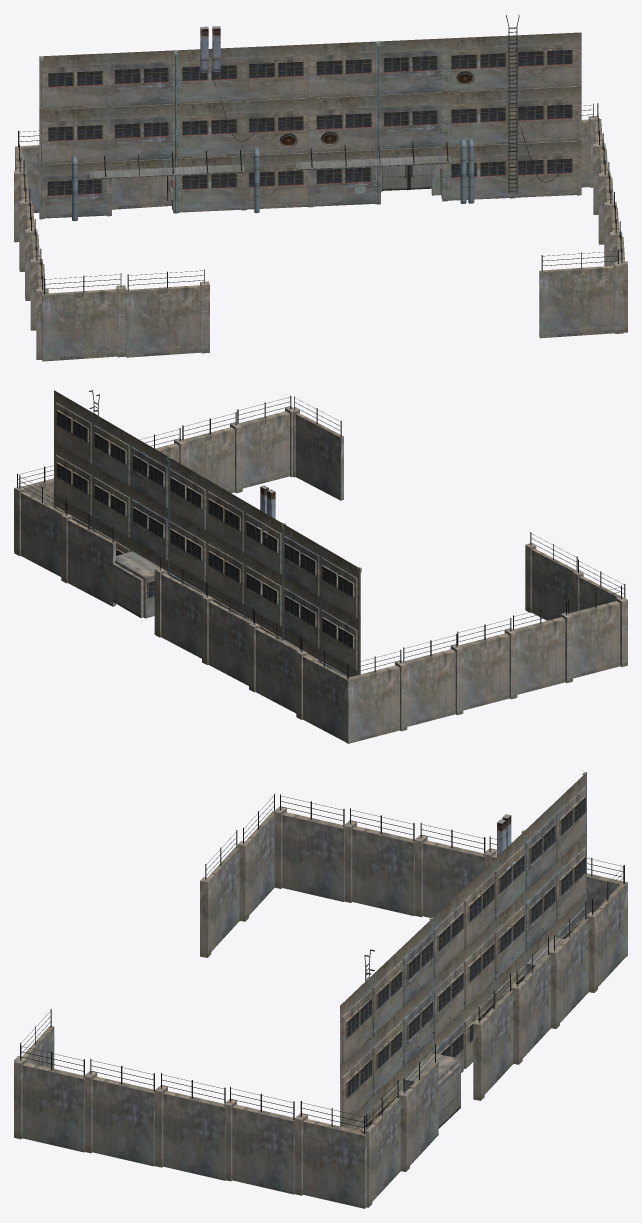
File: walls.fbx
The picture shows the model from 3 angles, top to bottom: view 1: azimuth 30°, elevation 25°; view 2: azimuth 150°, elevation 25°; view 3: azimuth 270°, elevation 25°; orthographic projection. The views are drawn at different scales.
Parts seen in each view (by area): view 1: BuildingWallB, Wall_A_17, Wall_A_16, Wall_A_18, Wall_A, Wall_A_5, Wall_A_1, Wall_A_8, Wall_A_15, Wall_A_14, Wall_A_7, Wall_A_13 (+4 smaller); view 2: BuildingWallB, Wall_A_12, Wall_A_14, Wall_A_15, Wall_A_13, Wall_A_11, Wall_A_4, Wall_A_6, Wall_A_17, Wall_A_1, Wall_A, Wall_A_5 (+7 smaller); view 3: BuildingWallB, Wall_A_7, Wall_A_6, Wall_A_15, Wall_A_9, Wall_A_11, Wall_A_10, Wall_A_8, Wall_A_13, Wall_A_3, Wall_A_18, Wall_A_4 (+7 smaller).
Part boxes in pixels (box(x1,y1,x2,y2)): BuildingWallB: box(39, 14, 581, 221); Wall_A_17: box(539, 250, 623, 338); Wall_A_16: box(42, 273, 126, 361); Wall_A_18: box(126, 269, 209, 357); Wall_A: box(112, 176, 171, 209); Wall_A_5: box(581, 103, 597, 187); Wall_A_1: box(16, 130, 39, 212); Wall_A_8: box(598, 133, 611, 244); Wall_A_15: box(30, 219, 42, 330); Wall_A_14: box(19, 160, 31, 271); Wall_A_7: box(593, 103, 605, 214); Wall_A_13: box(25, 189, 37, 300); BuildingWallB: box(54, 390, 361, 677); Wall_A_12: box(344, 649, 407, 743); Wall_A_14: box(403, 633, 463, 726); Wall_A_15: box(513, 601, 572, 694); Wall_A_13: box(457, 617, 517, 710); Wall_A_11: box(568, 585, 627, 678); Wall_A_4: box(61, 502, 115, 606); Wall_A_6: box(237, 395, 296, 488); Wall_A_17: box(293, 396, 343, 500); Wall_A_1: box(296, 639, 350, 741); Wall_A: box(249, 611, 301, 713); Wall_A_5: box(14, 475, 66, 576); BuildingWallB: box(340, 772, 586, 1130); Wall_A_7: box(294, 1101, 366, 1208); Wall_A_6: box(14, 1045, 84, 1152); Wall_A_15: box(343, 808, 414, 915); Wall_A_9: box(154, 1073, 225, 1180); Wall_A_11: box(273, 794, 344, 901); Wall_A_10: box(84, 1059, 154, 1166); Wall_A_8: box(223, 1086, 294, 1194); Wall_A_13: box(414, 822, 485, 917); Wall_A_3: box(473, 973, 513, 1100); Wall_A_18: box(200, 830, 239, 957); Wall_A_4: box(398, 1044, 438, 1171).
Bounding box in the file's own units: 6772 × 2052 × 5379.
Materials: 1 (1 with a texture image).
